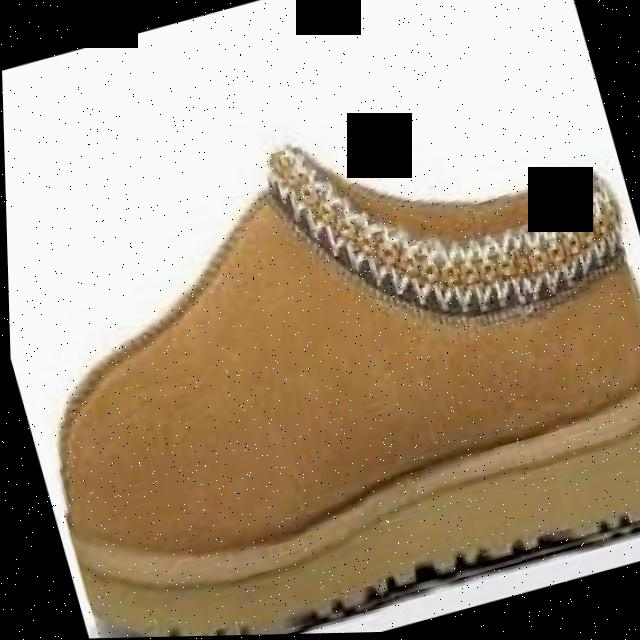shoe: (59, 148, 640, 638)
